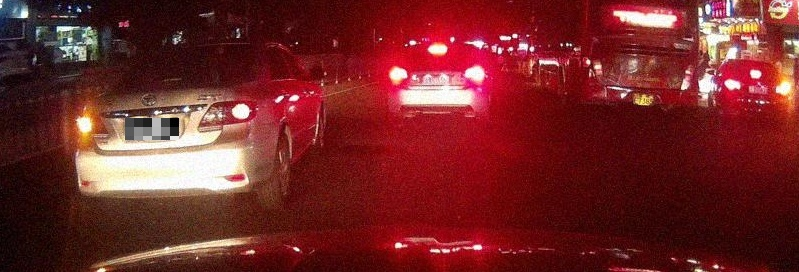L_light: (75, 110, 111, 138), (389, 66, 408, 86), (724, 78, 741, 91)
R_light: (197, 100, 259, 133), (464, 65, 485, 86), (776, 82, 790, 96)
T_light: (427, 43, 448, 56), (749, 69, 762, 79), (161, 78, 182, 82)
night-brake: (387, 42, 488, 121)
night-left: (74, 41, 271, 213)
night-right: (723, 60, 790, 119)
plate_1: (125, 118, 179, 140)
